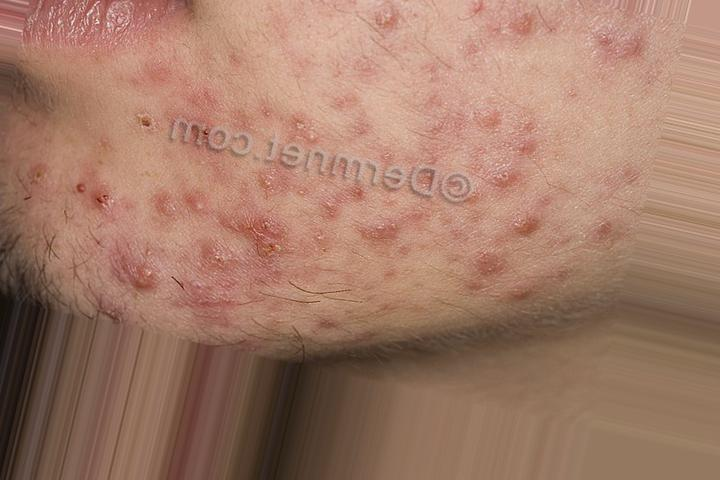Acne: (469, 90, 557, 189), (359, 195, 417, 277), (163, 83, 230, 146), (483, 205, 562, 258), (583, 20, 648, 77), (235, 218, 296, 268), (152, 183, 215, 229), (498, 6, 551, 57), (358, 5, 417, 50), (246, 162, 313, 200), (340, 90, 381, 143), (279, 109, 328, 152), (73, 170, 114, 220), (119, 258, 169, 297)
